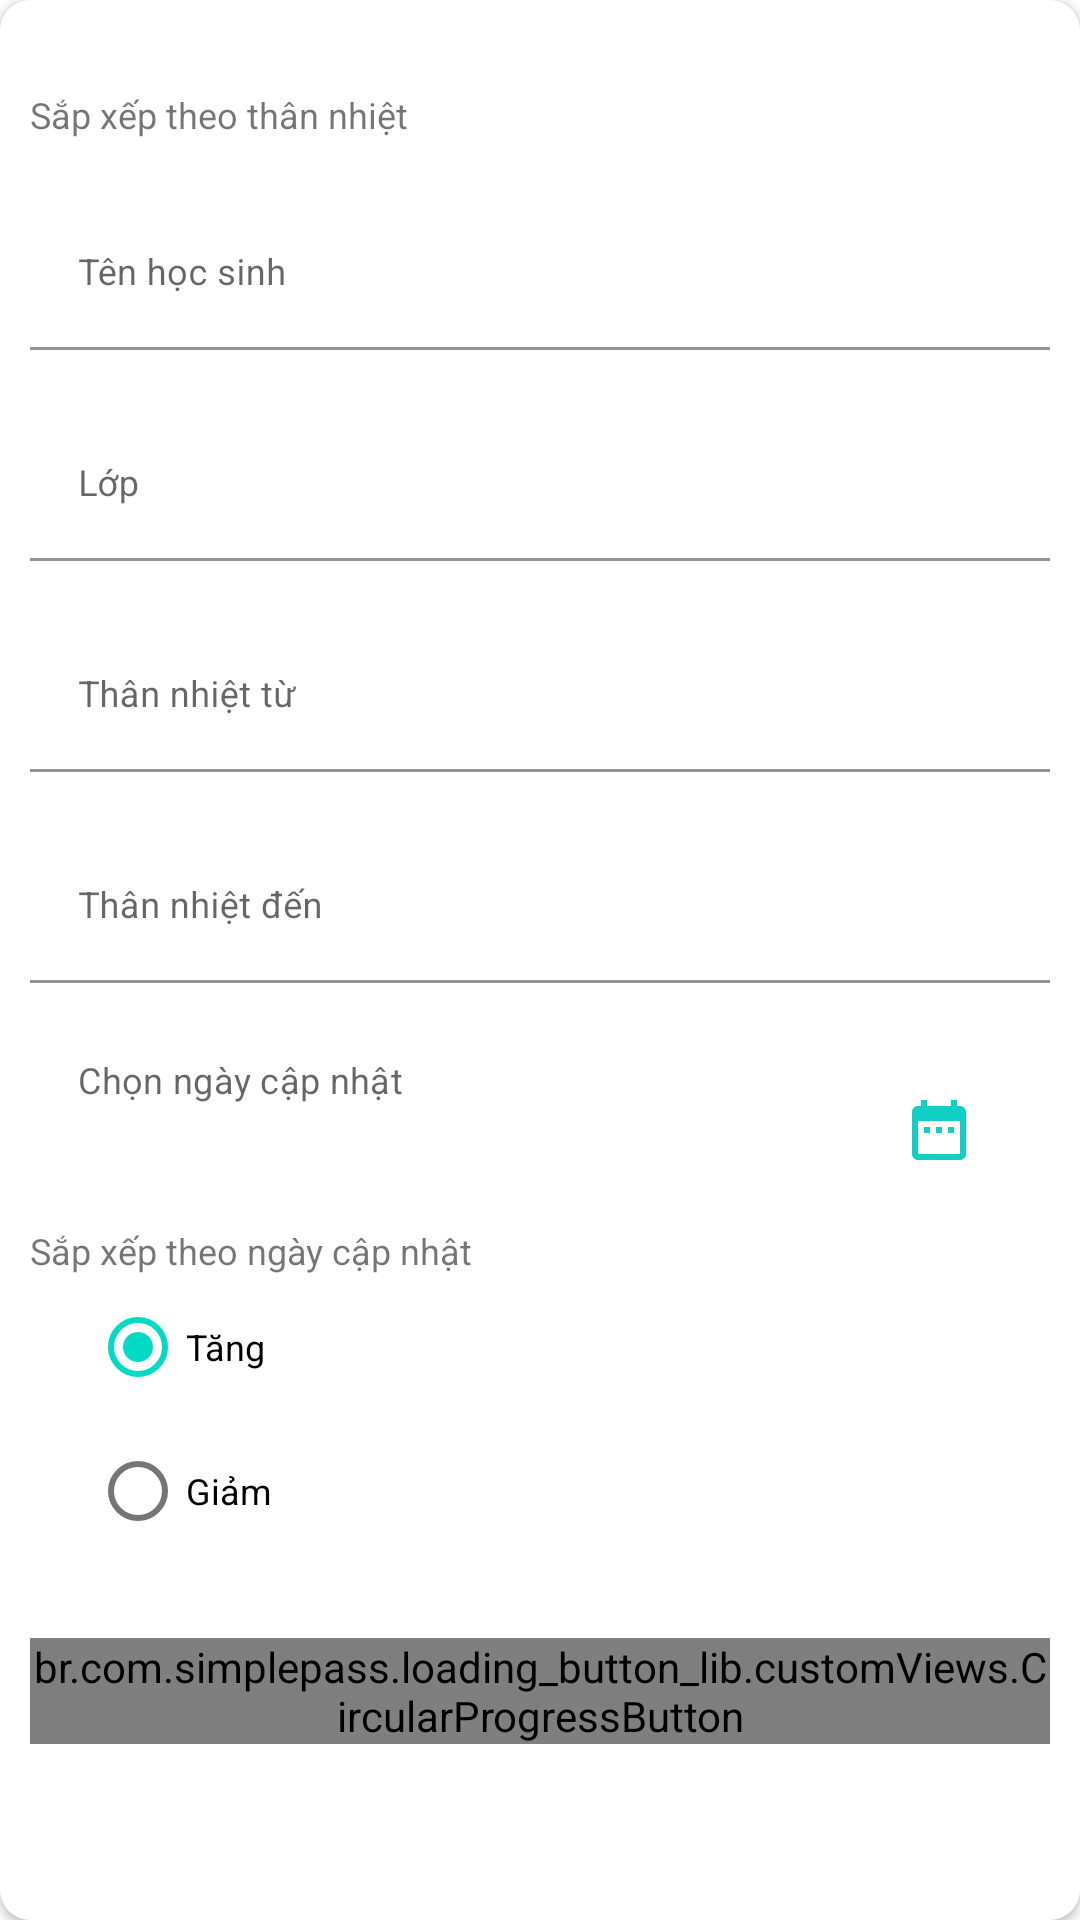

Screen size 1080w x 1920h. Icon name, then its box in pixels as (x1, y1, x2, y2):
date range: (912, 1100, 966, 1160)
